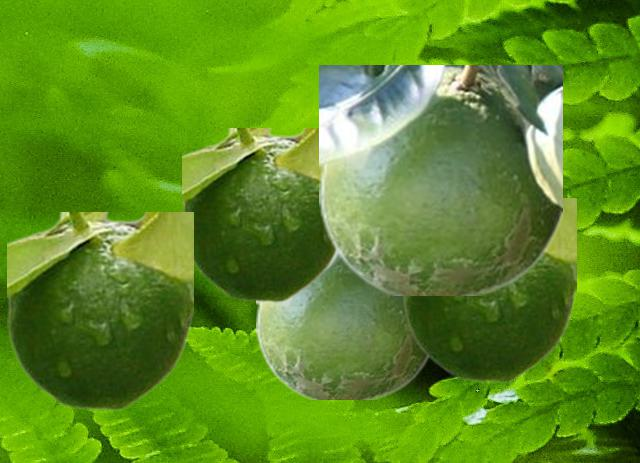dalandan: (319, 65, 561, 294), (7, 212, 192, 409), (403, 198, 575, 381), (182, 128, 336, 301), (256, 258, 429, 398)
